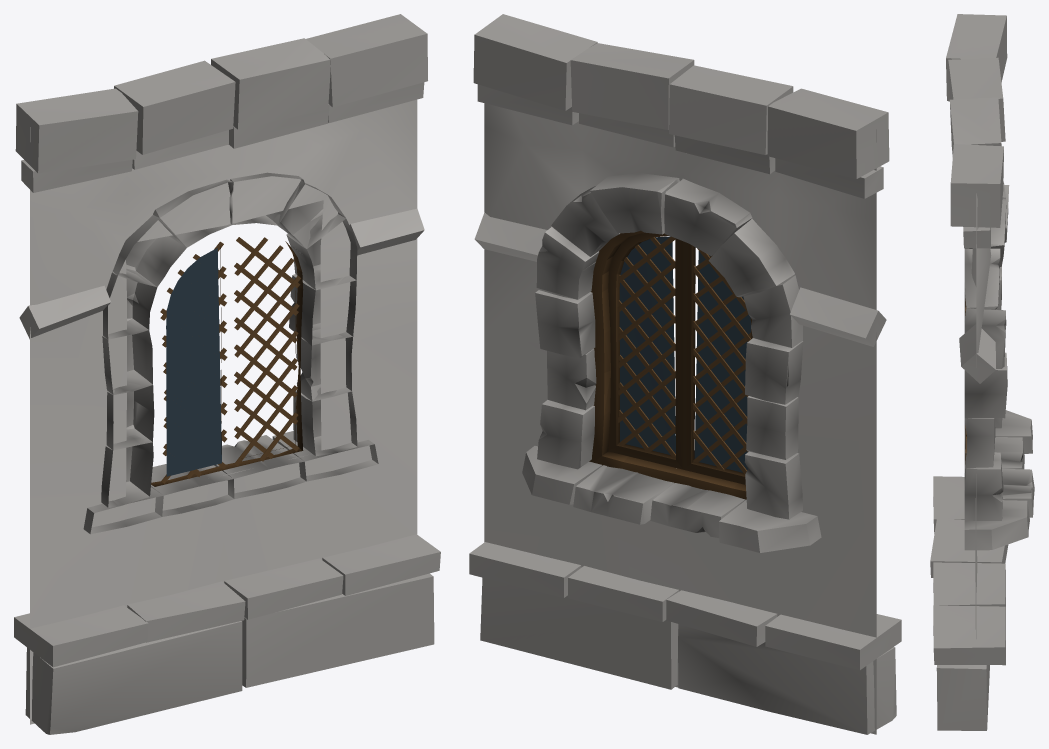
The model's file is wall_window_LOW.FBX.
3 renders of one model, left to right at view 1: azimuth 30°, elevation 25°; view 2: azimuth 150°, elevation 25°; view 3: azimuth 270°, elevation 25°, orthographic. The views are drawn at different scales.
Parts seen in each view (by area): view 1: wall_window_LOW; view 2: wall_window_LOW; view 3: wall_window_LOW.
Boxes of the visible parts, x1=… form: wall_window_LOW: x1=14, y1=14, x2=440, y2=734; wall_window_LOW: x1=469, y1=14, x2=901, y2=734; wall_window_LOW: x1=930, y1=14, x2=1034, y2=730.
Bounding box in the file's own units: 4.02 × 6.02 × 1.03.
